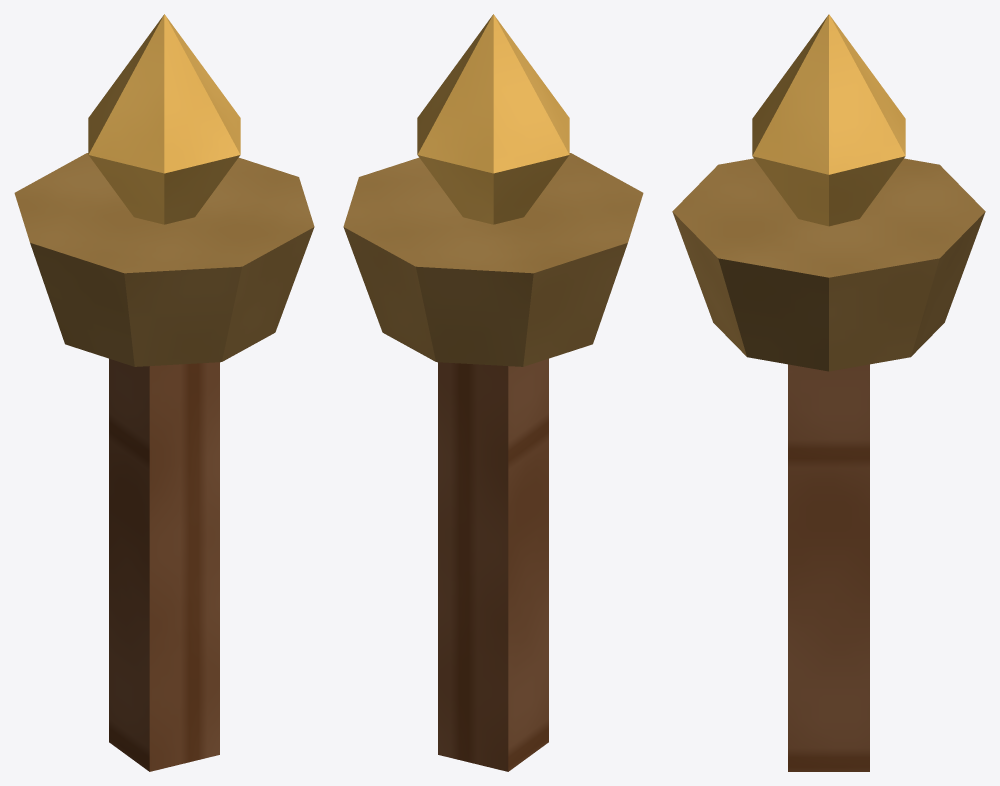
Rendered from torch.obj.
The picture shows the model from 3 angles, left to right: view 1: azimuth 30°, elevation 25°; view 2: azimuth 150°, elevation 25°; view 3: azimuth 270°, elevation 25°; orthographic projection.
Parts seen in each view (by area): view 1: torch; view 2: torch; view 3: torch.
Part boxes in pixels (bbox=[...]): torch: bbox=[14, 14, 314, 771]; torch: bbox=[343, 14, 643, 771]; torch: bbox=[672, 14, 985, 771].
Bounding box in the file's own units: 0.46 × 1.2 × 0.46.
Materials: 3 (3 with a texture image).
